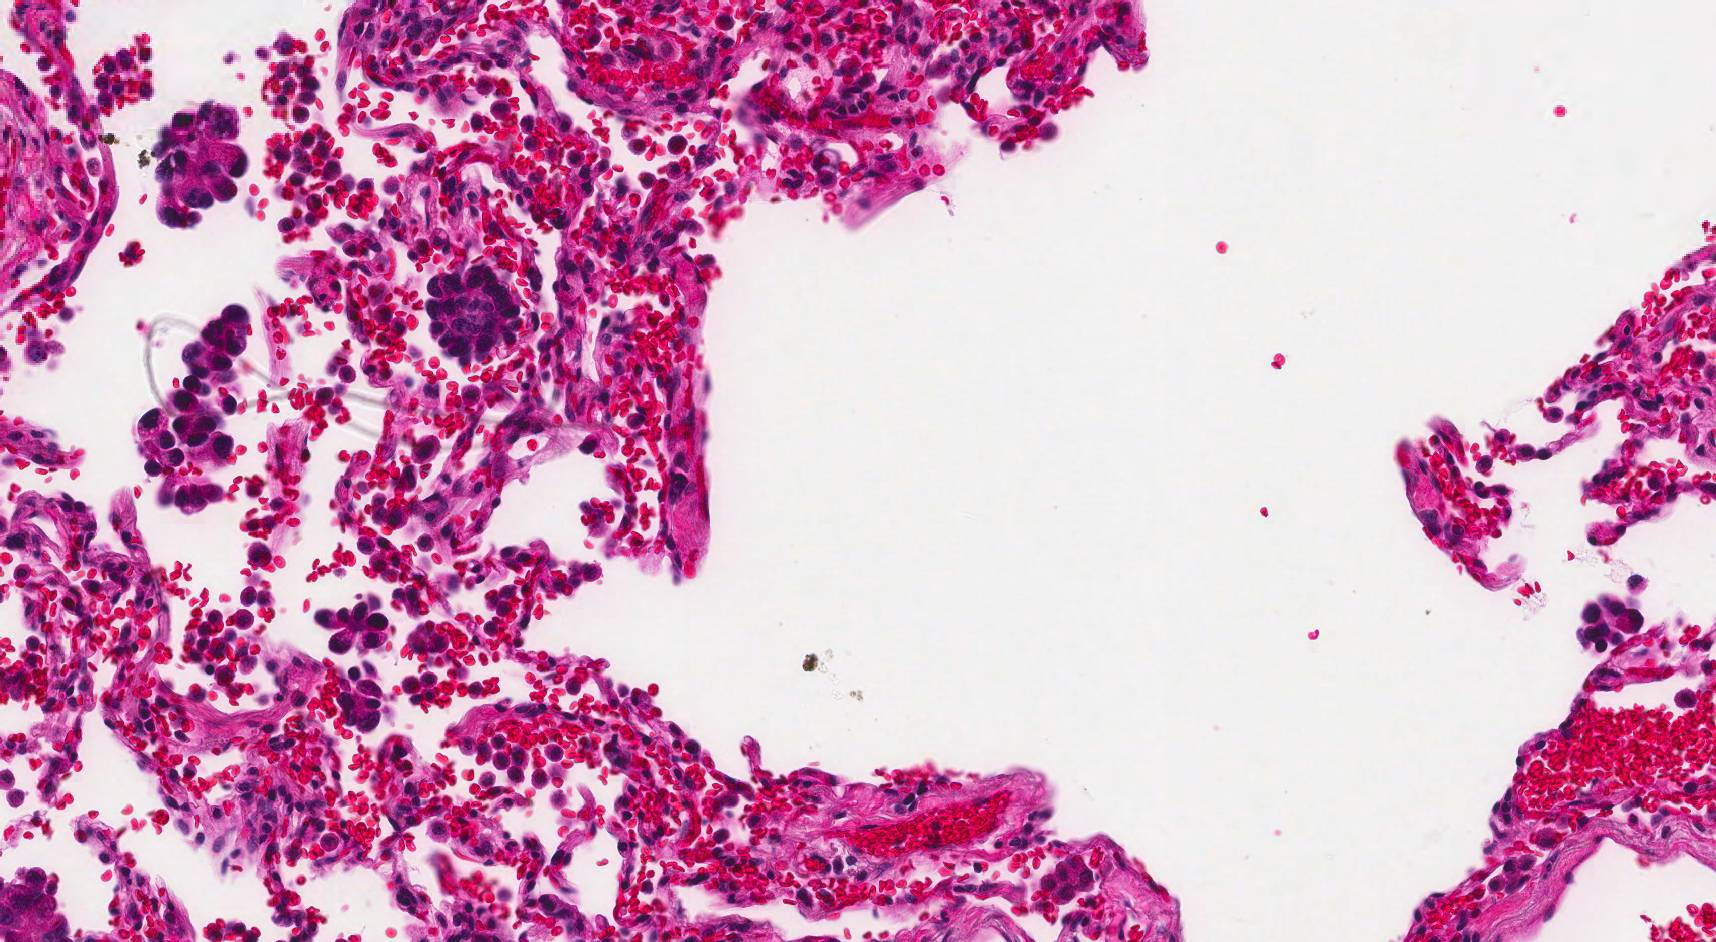stas: (135, 302, 254, 517), (152, 101, 250, 229), (424, 262, 524, 366), (316, 599, 394, 654), (332, 665, 383, 733)
